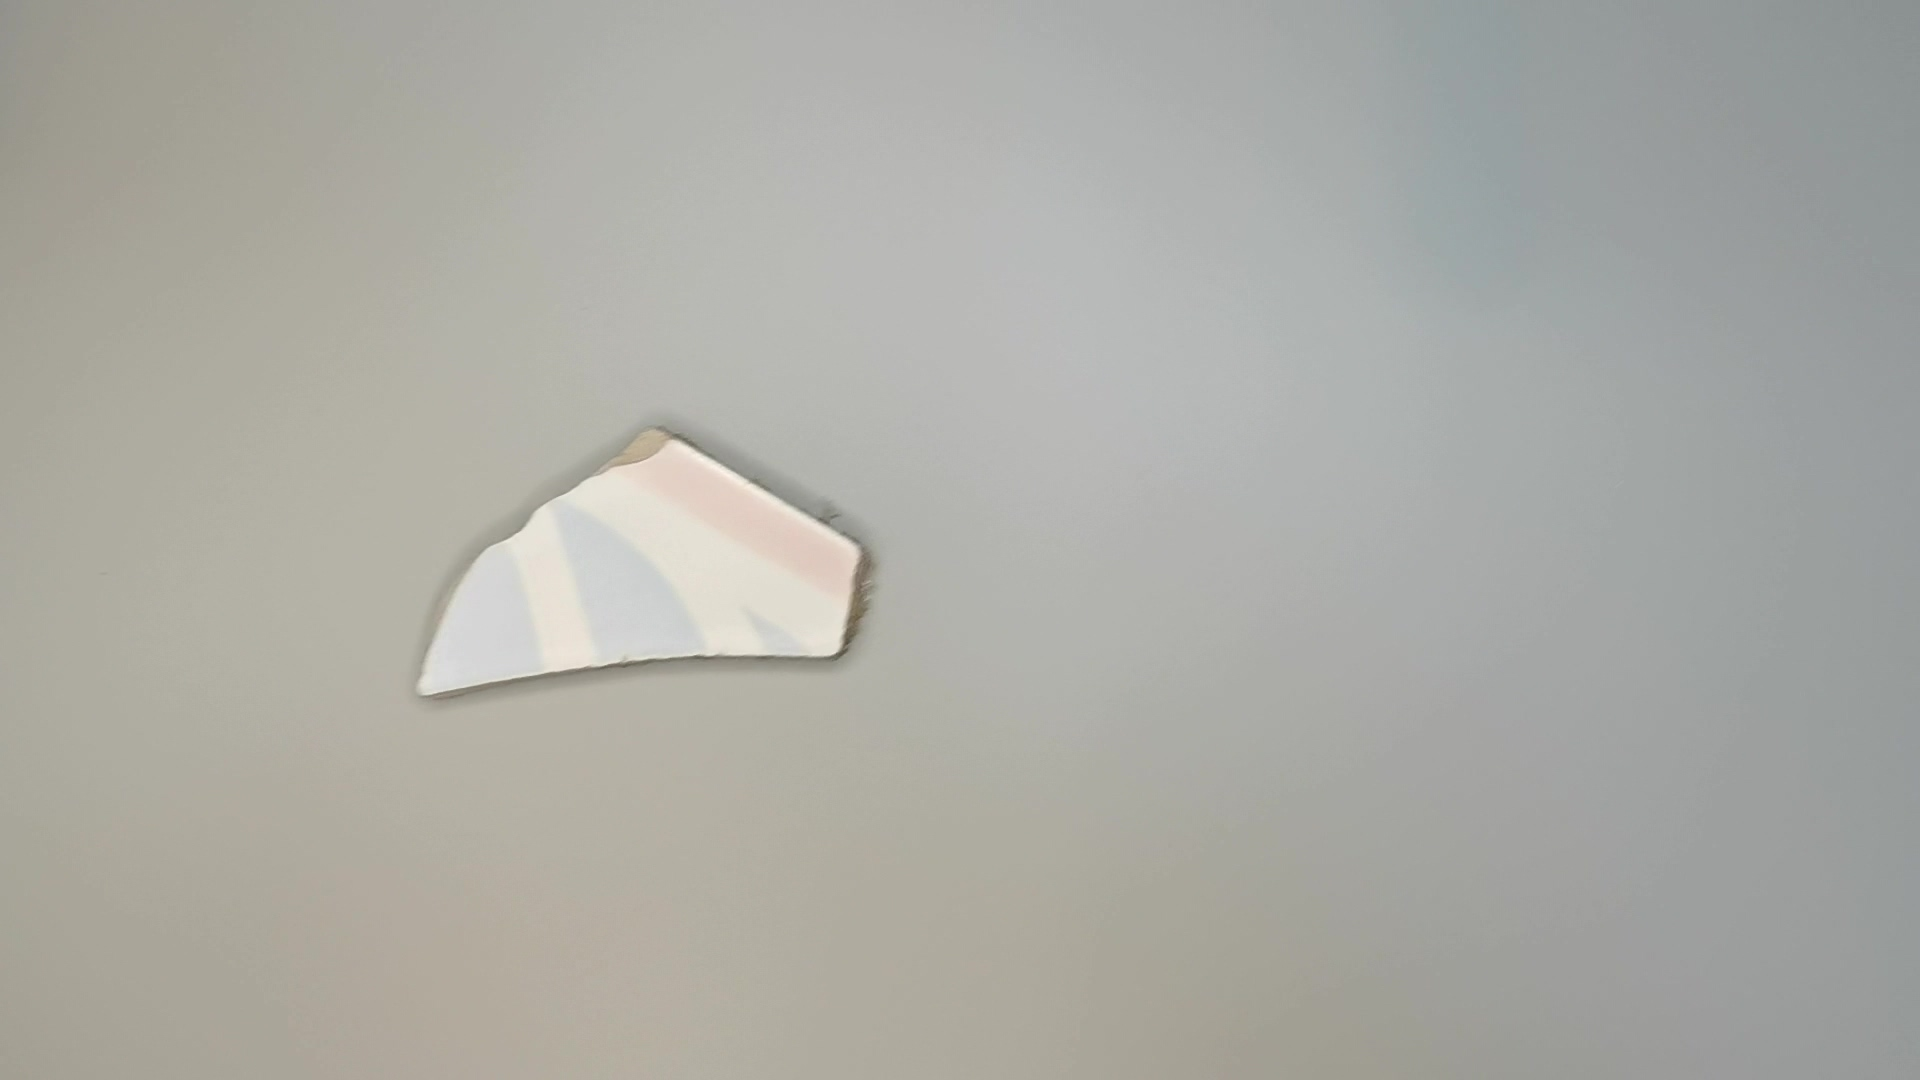ceramic: (410, 422, 873, 715)
